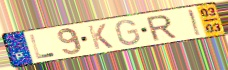9: (56, 28, 84, 56)
G: (114, 19, 142, 46)
I: (187, 8, 204, 37)
K: (86, 23, 115, 51)
L: (28, 33, 58, 60)
R: (144, 13, 178, 42)
